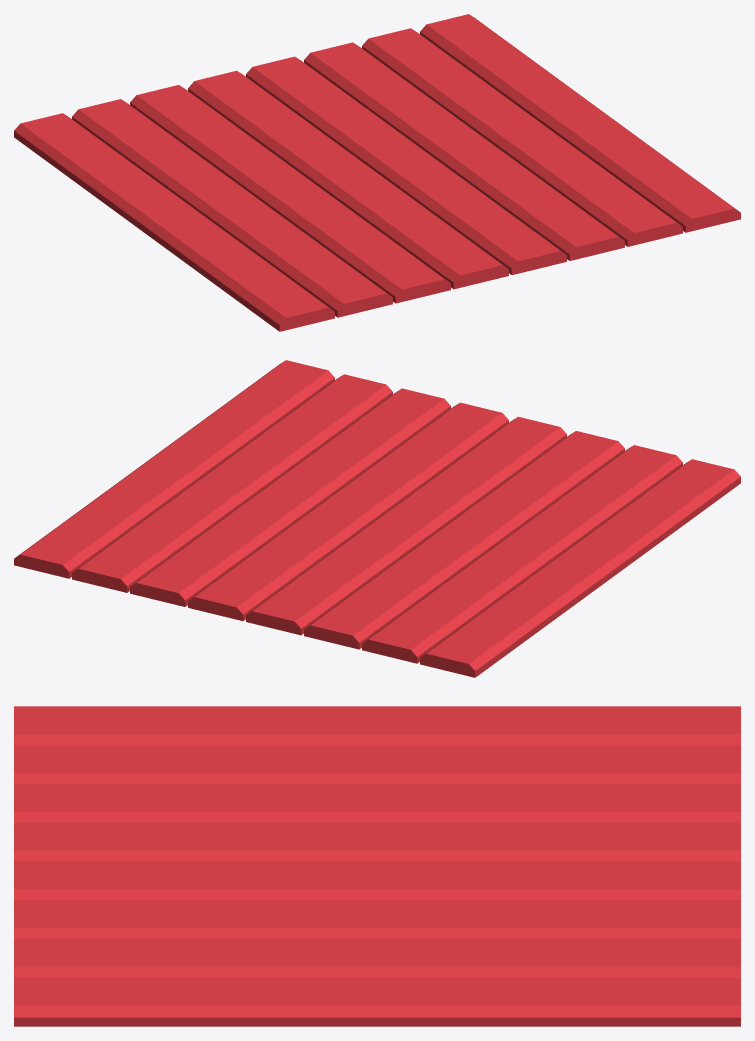
File: newfloor.glb
The picture shows the model from 3 angles, top to bottom: view 1: azimuth 30°, elevation 25°; view 2: azimuth 150°, elevation 25°; view 3: azimuth 270°, elevation 25°; orthographic projection. The views are drawn at different scales.
Parts seen in each view (by area): view 1: Floor; view 2: Floor; view 3: Floor.
Boxes of the visible parts, x1,y1,x2,y2 form: Floor: (14, 14, 740, 331); Floor: (14, 360, 740, 677); Floor: (14, 706, 740, 1026).
Size of the model in its own units: 2 by 0.0512 by 2.
